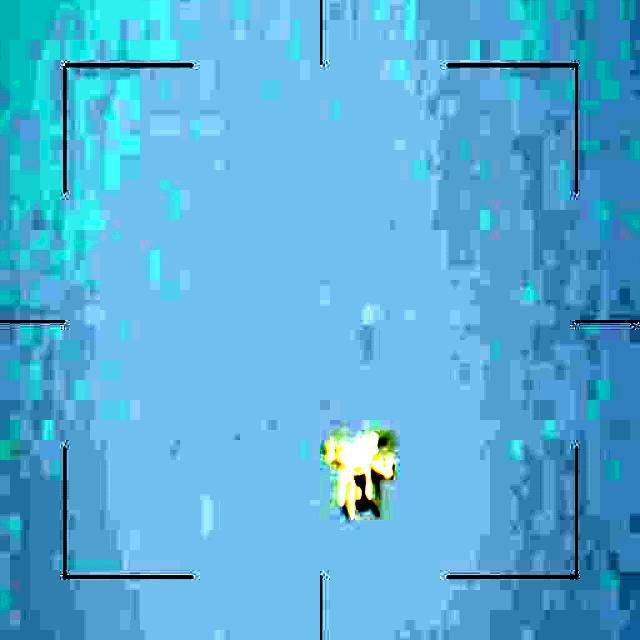bird: (314, 415, 395, 516)
